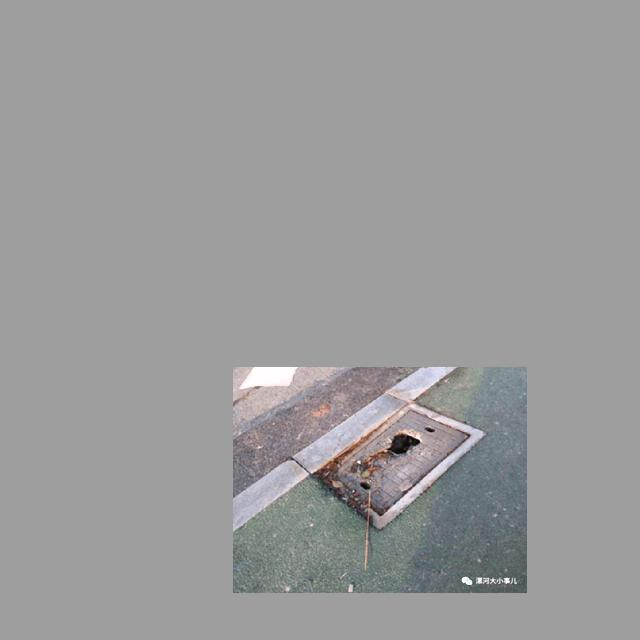broke: (309, 393, 497, 529)
